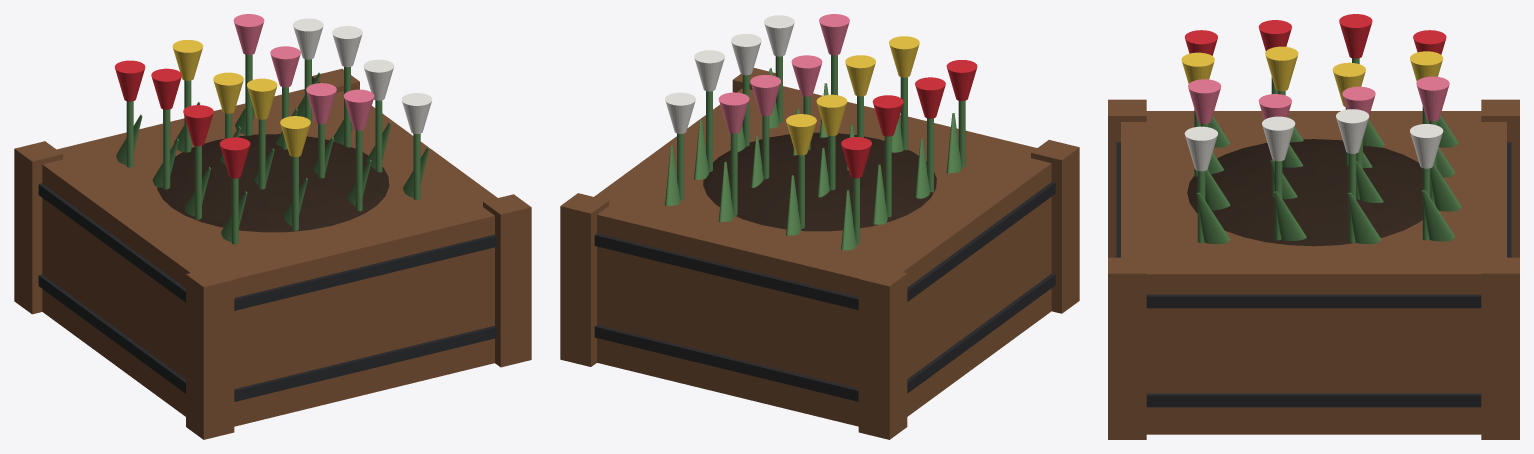
File: street-planter-tulips.glb
The picture shows the model from 3 angles, left to right: view 1: azimuth 30°, elevation 25°; view 2: azimuth 150°, elevation 25°; view 3: azimuth 270°, elevation 25°; orthographic projection. The views are drawn at different scales.
Visible parts, largest first — view 1: Cube, Sphere, Cube.001, Cube.003, Cube.006, Cube.005, Cube.002, Cone.018, Cone.030, Cone, Cone.010, Cone.020 (+22 smaller); view 2: Cube, Sphere, Cube.002, Cube.004, Cube.005, Cube.006, Cube.001, Cone.004, Cone.012, Cone.002, Cone.022, Cone.024 (+24 smaller); view 3: Cube, Sphere, Cube.003, Cube.004, Cube.006, Cube.005, Cube.001, Cube.002, Cone.006, Cone.010, Cone.014, Cone.028 (+23 smaller).
Part boxes in pixels (x1,y1,x2,y2): Cube: (42,89,497,426); Sphere: (157,134,389,232); Cube.001: (186,266,234,439); Cube.003: (483,194,531,367); Cube.006: (38,183,496,310); Cube.005: (38,274,496,401); Cube.002: (14,141,62,314); Cone.018: (213,72,243,113); Cone.030: (293,18,323,59); Cone: (219,137,250,178); Cone.010: (247,78,277,119); Cone.020: (270,46,300,87); Cube: (594,86,1051,426); Sphere: (703,132,936,231); Cube.002: (858,266,907,439); Cube.004: (560,193,608,366); Cube.005: (594,273,1055,401); Cube.006: (594,182,1055,310); Cube.001: (1031,140,1079,313); Cone.004: (819,14,849,55); Cone.012: (791,55,822,96); Cone.002: (889,36,919,77); Cone.022: (694,50,724,91); Cone.024: (841,137,871,178); Cube: (1121,111,1506,434); Sphere: (1187,139,1422,246); Cube.003: (1108,257,1146,439); Cube.004: (1481,257,1519,439); Cube.006: (1116,142,1511,308); Cube.005: (1146,393,1481,407); Cube.001: (1108,99,1146,257); Cube.002: (1481,99,1519,257); Cone.006: (1184,126,1217,171); Cone.010: (1265,46,1298,91); Cone.014: (1262,116,1295,161); Cone.028: (1416,76,1449,121).
Size of the model in its own units: 1.28 by 0.98 by 1.28.
